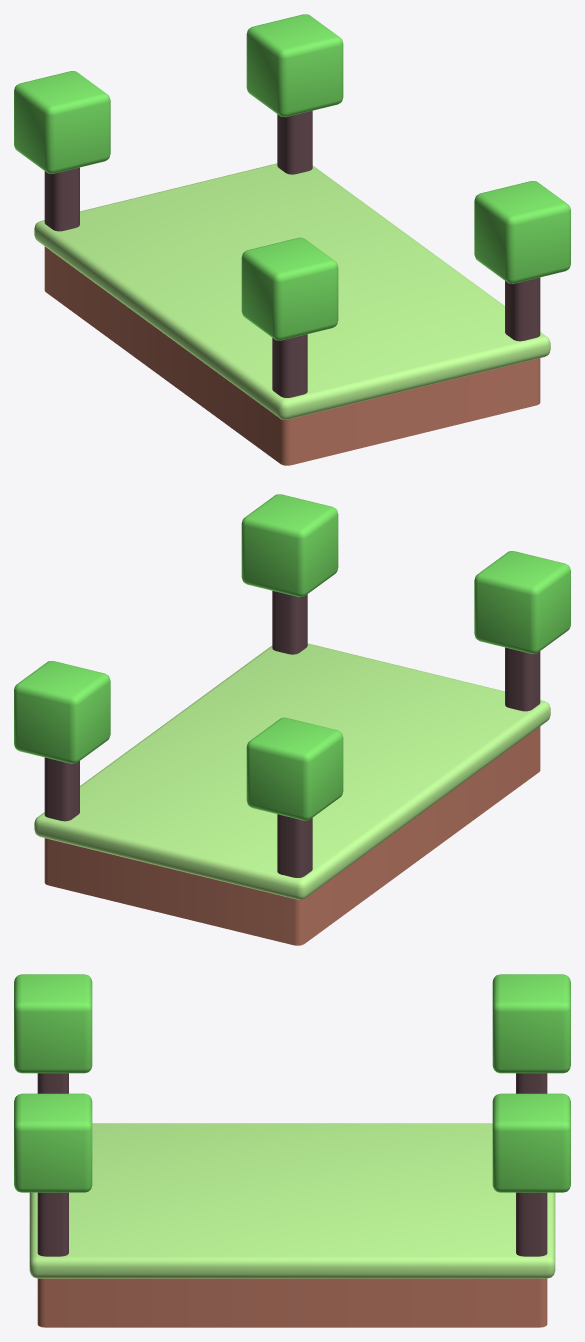
The model's file is GroundLevelSpring.fbx.
3 views of the same model, one above another, from view 1: azimuth 30°, elevation 25°; view 2: azimuth 150°, elevation 25°; view 3: azimuth 270°, elevation 25° (orthographic). The views are drawn at different scales.
Parts seen in each view (by area): view 1: GroundLevelSpring; view 2: GroundLevelSpring; view 3: GroundLevelSpring.
Part boxes in pixels (x1,y1,x2,y2): GroundLevelSpring: [14, 14, 570, 465]; GroundLevelSpring: [14, 494, 570, 945]; GroundLevelSpring: [14, 974, 570, 1327].
Size of the model in its own units: 920 by 600 by 1420.
